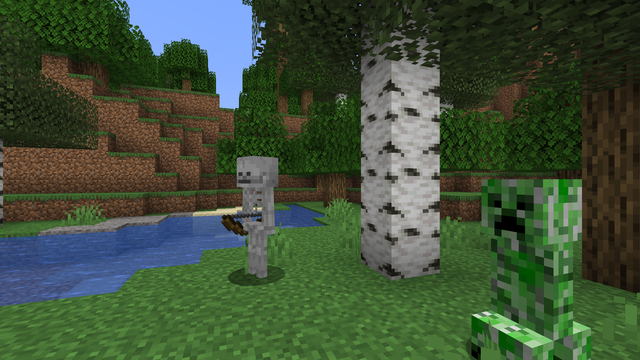creepers: (472, 169, 593, 359)
squelettes: (238, 156, 277, 283)
